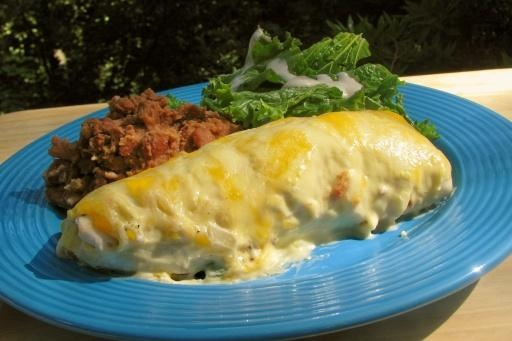background: (34, 15, 362, 152)
